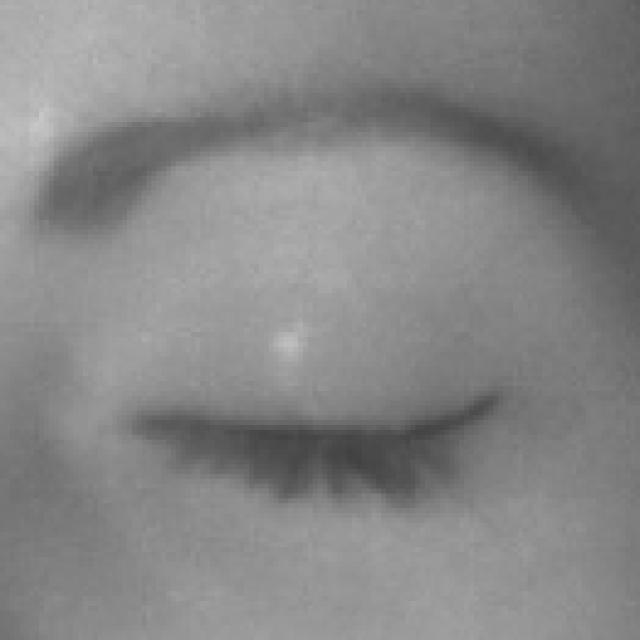close: (0, 63, 640, 562)
